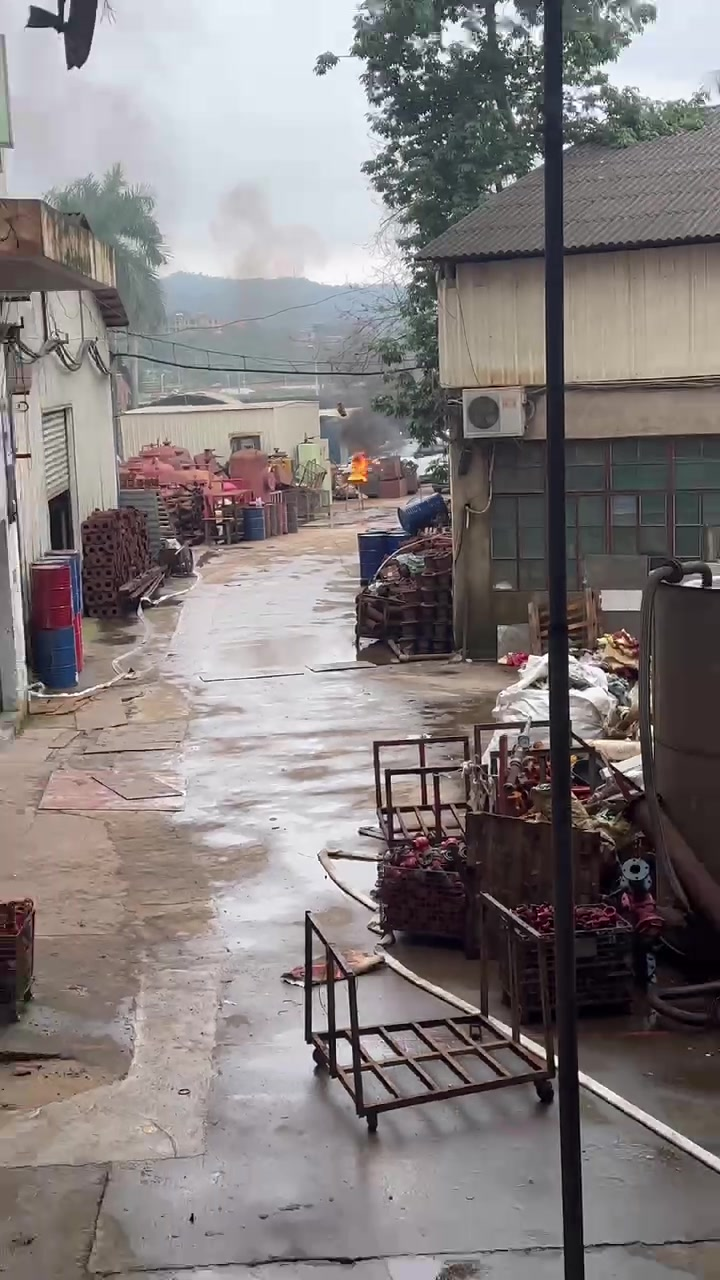fire: (347, 450, 366, 479)
